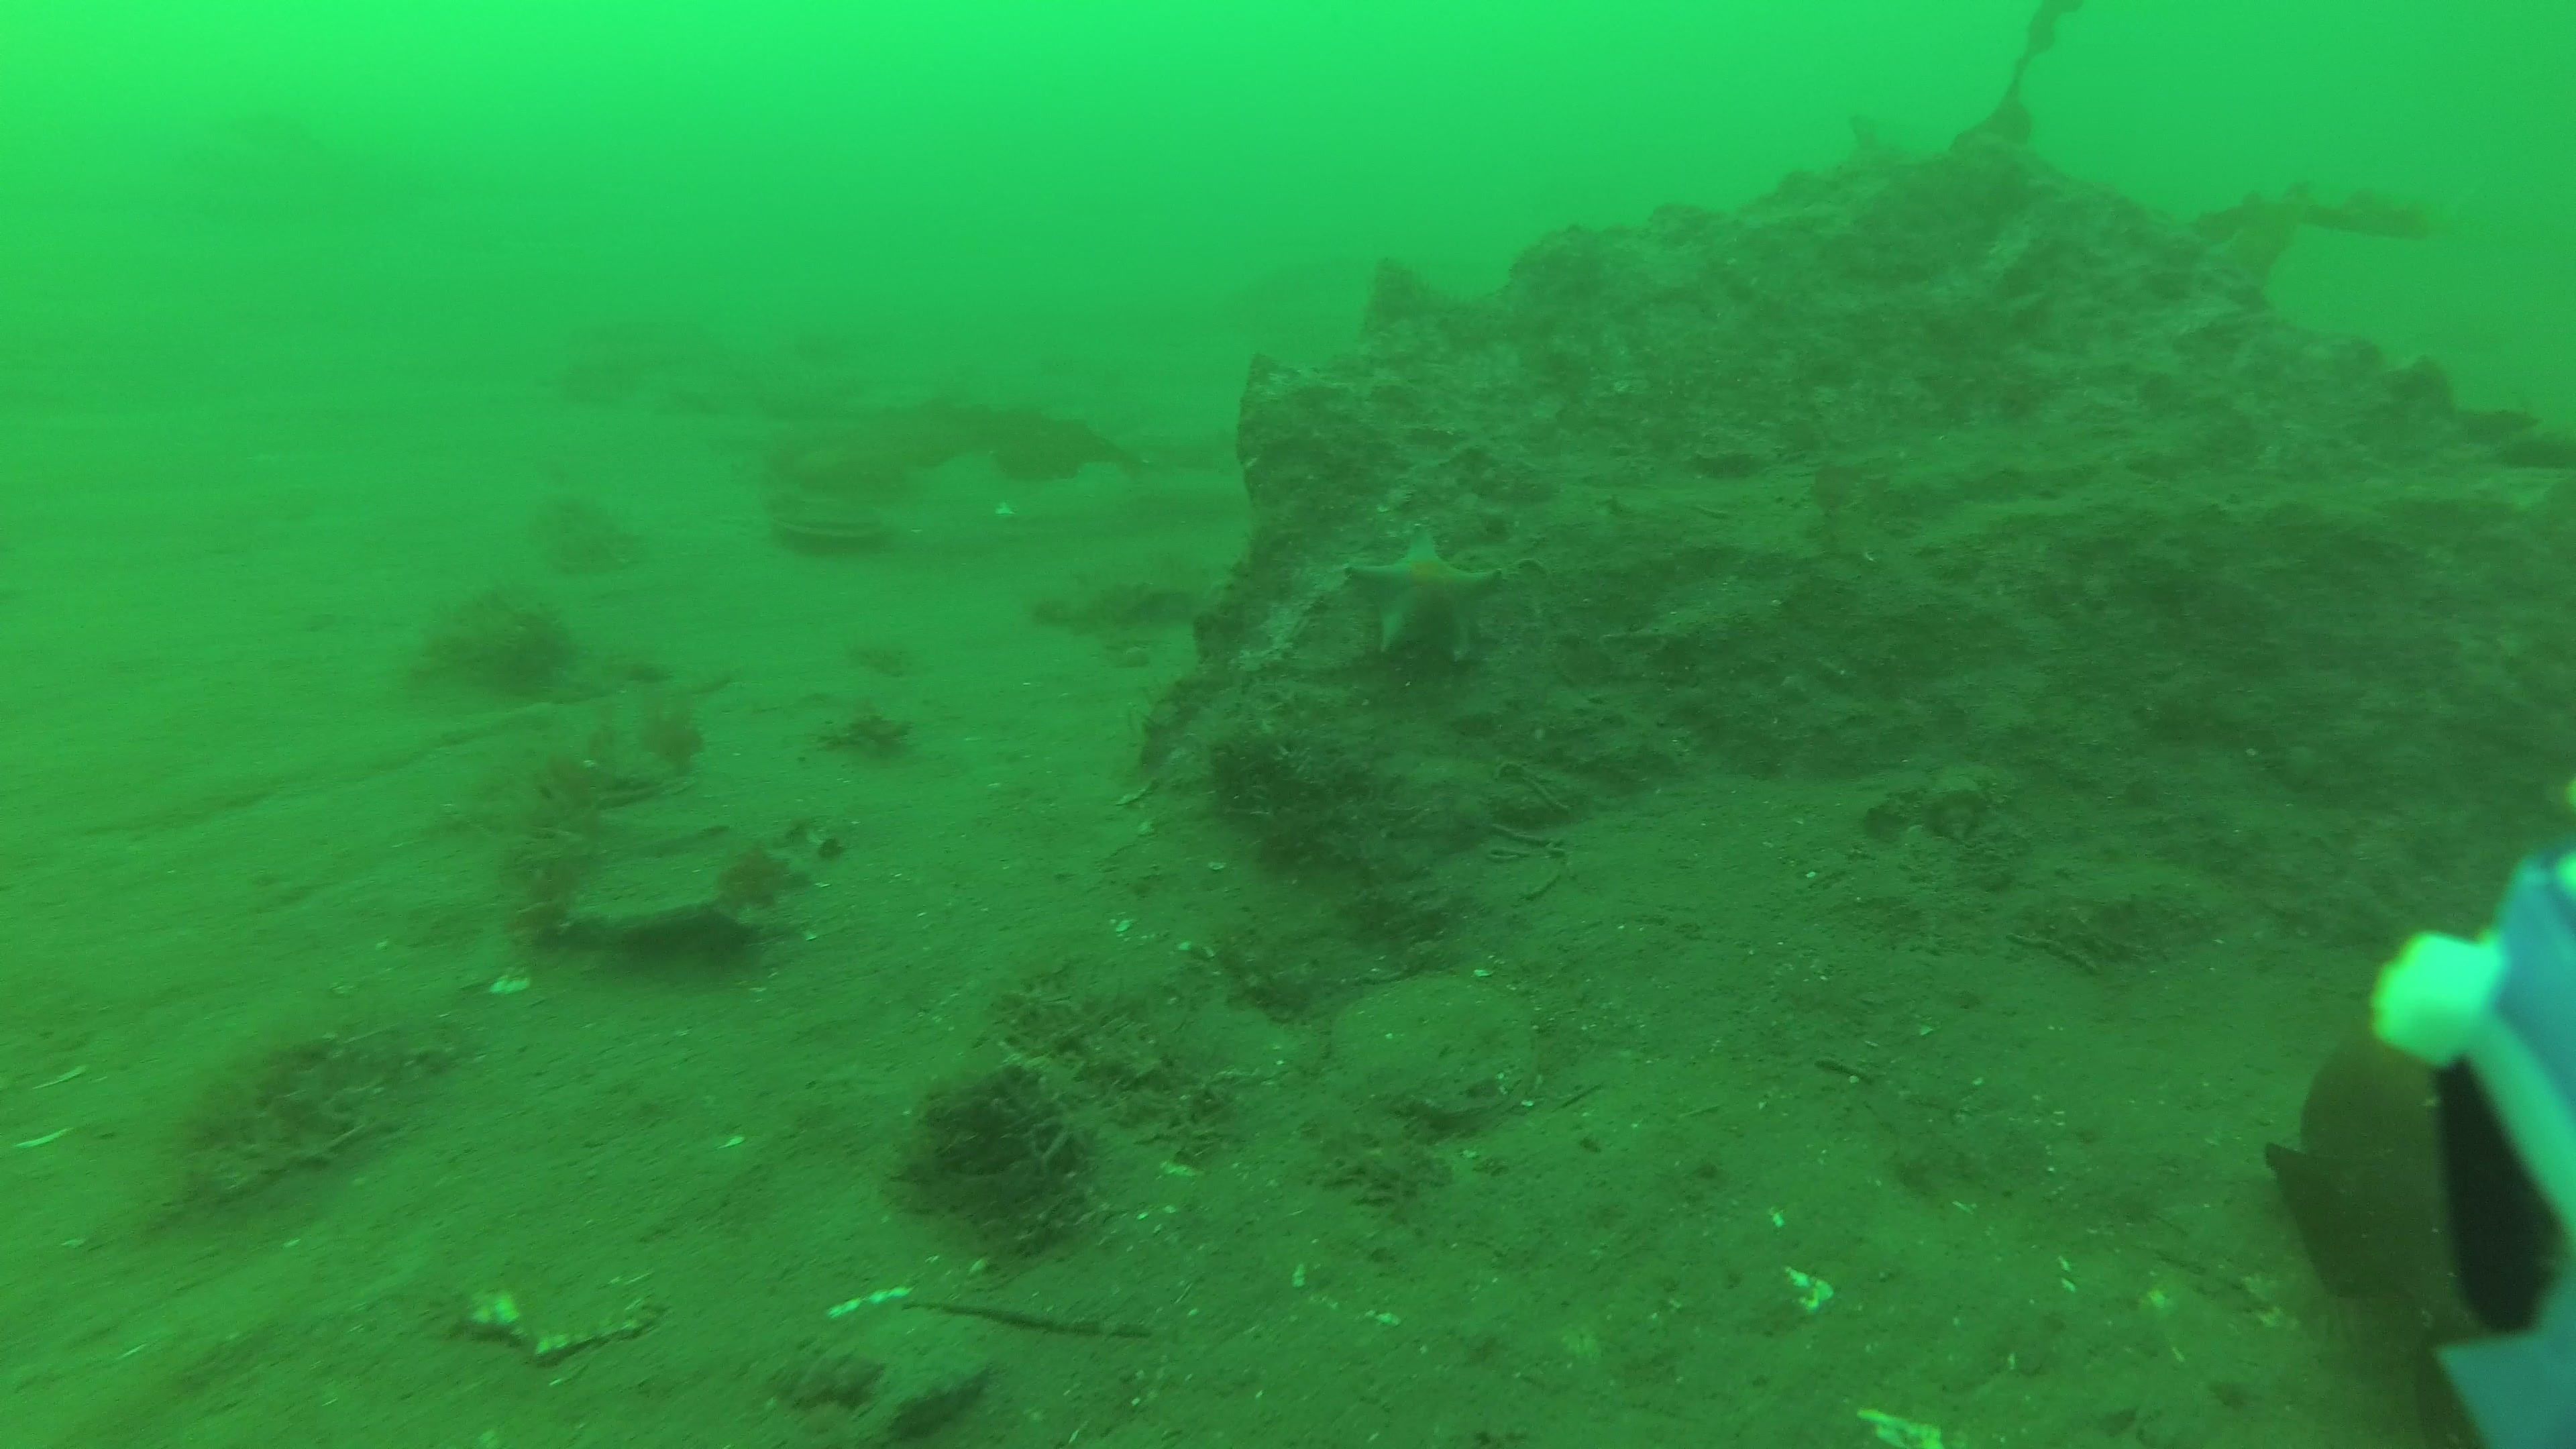starfish: (1338, 517, 1504, 665)
